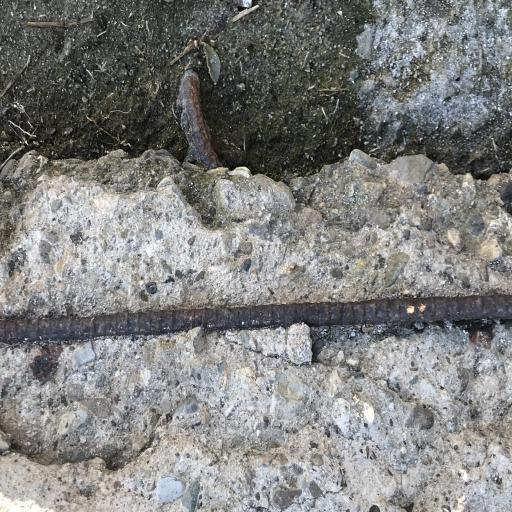exposed_rebar: (0, 295, 512, 343), (177, 69, 221, 169)
